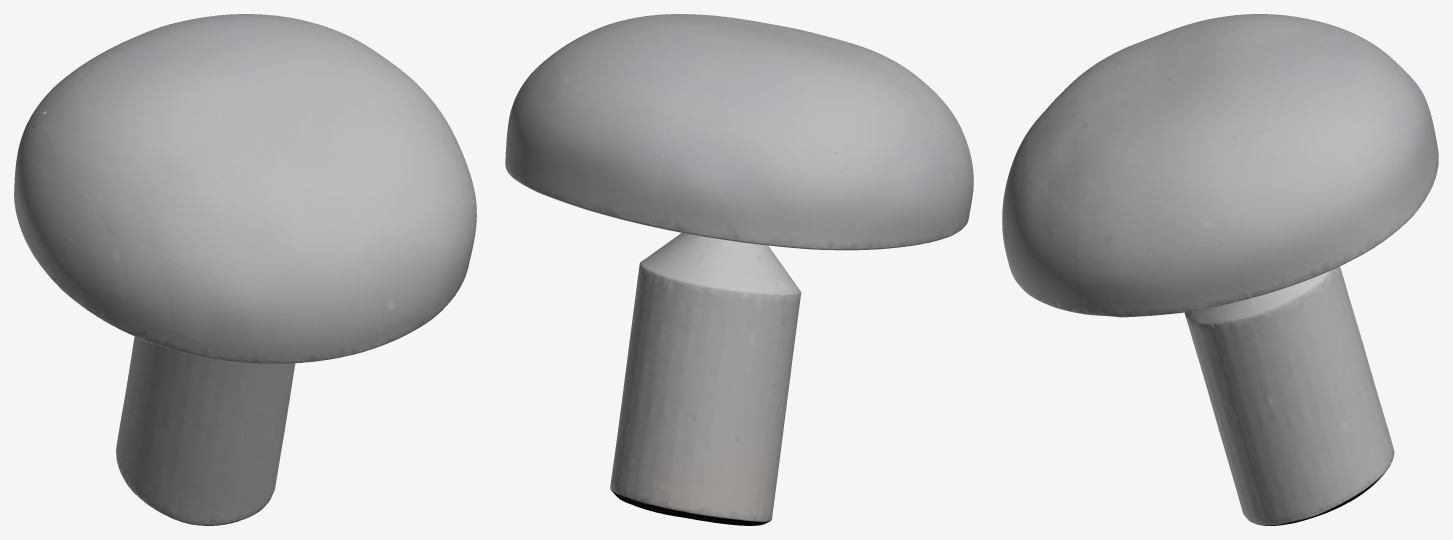
Rendered from gen_nightstand_lamp_tripo.web.glb.
3 renders of one model, left to right at view 1: azimuth 30°, elevation 25°; view 2: azimuth 150°, elevation 25°; view 3: azimuth 270°, elevation 25°, orthographic. The views are drawn at different scales.
Parts seen in each view (by area): view 1: tripo_node_cba62b68-c28c-4cfd-b69a-264c669dccb6; view 2: tripo_node_cba62b68-c28c-4cfd-b69a-264c669dccb6; view 3: tripo_node_cba62b68-c28c-4cfd-b69a-264c669dccb6.
Boxes of the visible parts, x1,y1,x2,y2 form: tripo_node_cba62b68-c28c-4cfd-b69a-264c669dccb6: (14,14,476,525); tripo_node_cba62b68-c28c-4cfd-b69a-264c669dccb6: (505,14,973,525); tripo_node_cba62b68-c28c-4cfd-b69a-264c669dccb6: (1002,14,1438,525).
Bounding box in the file's own units: 0.3999 × 0.4499 × 0.3852.
Materials: 1 (1 with a texture image).
